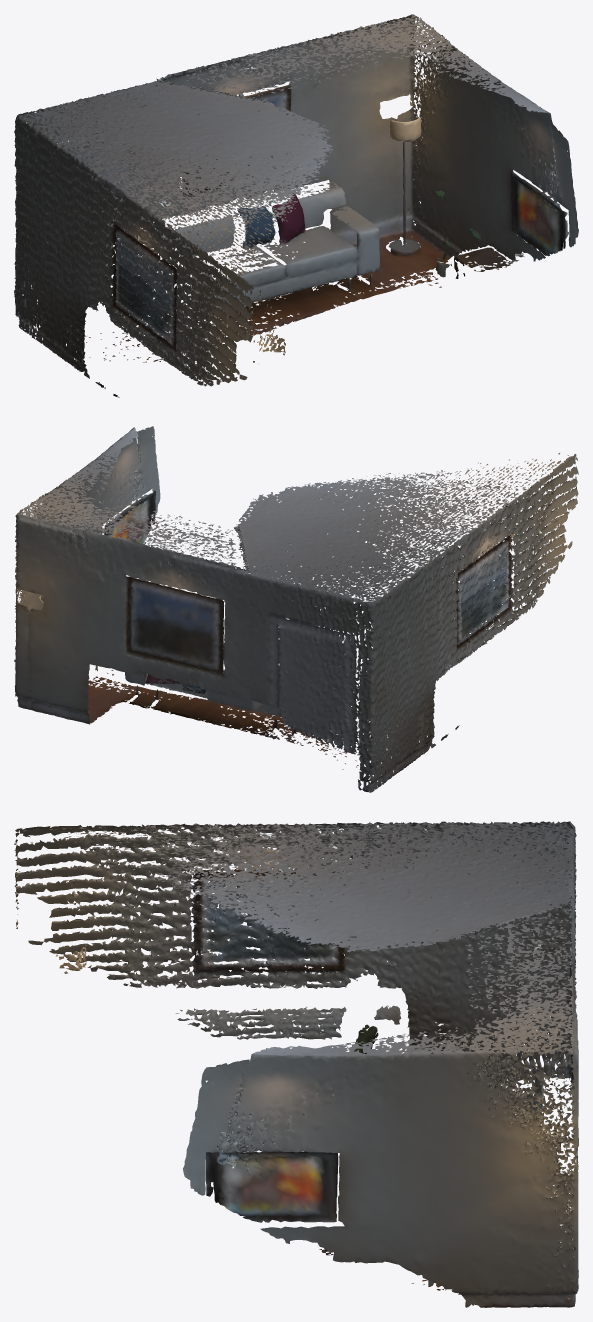
The model's file is tsdf_tuned_estimated.glb.
The picture shows the model from 3 angles, top to bottom: view 1: azimuth 30°, elevation 25°; view 2: azimuth 150°, elevation 25°; view 3: azimuth 270°, elevation 25°; orthographic projection. The views are drawn at different scales.
Bounding box in the file's own units: 4.99 × 2.57 × 5.03.
